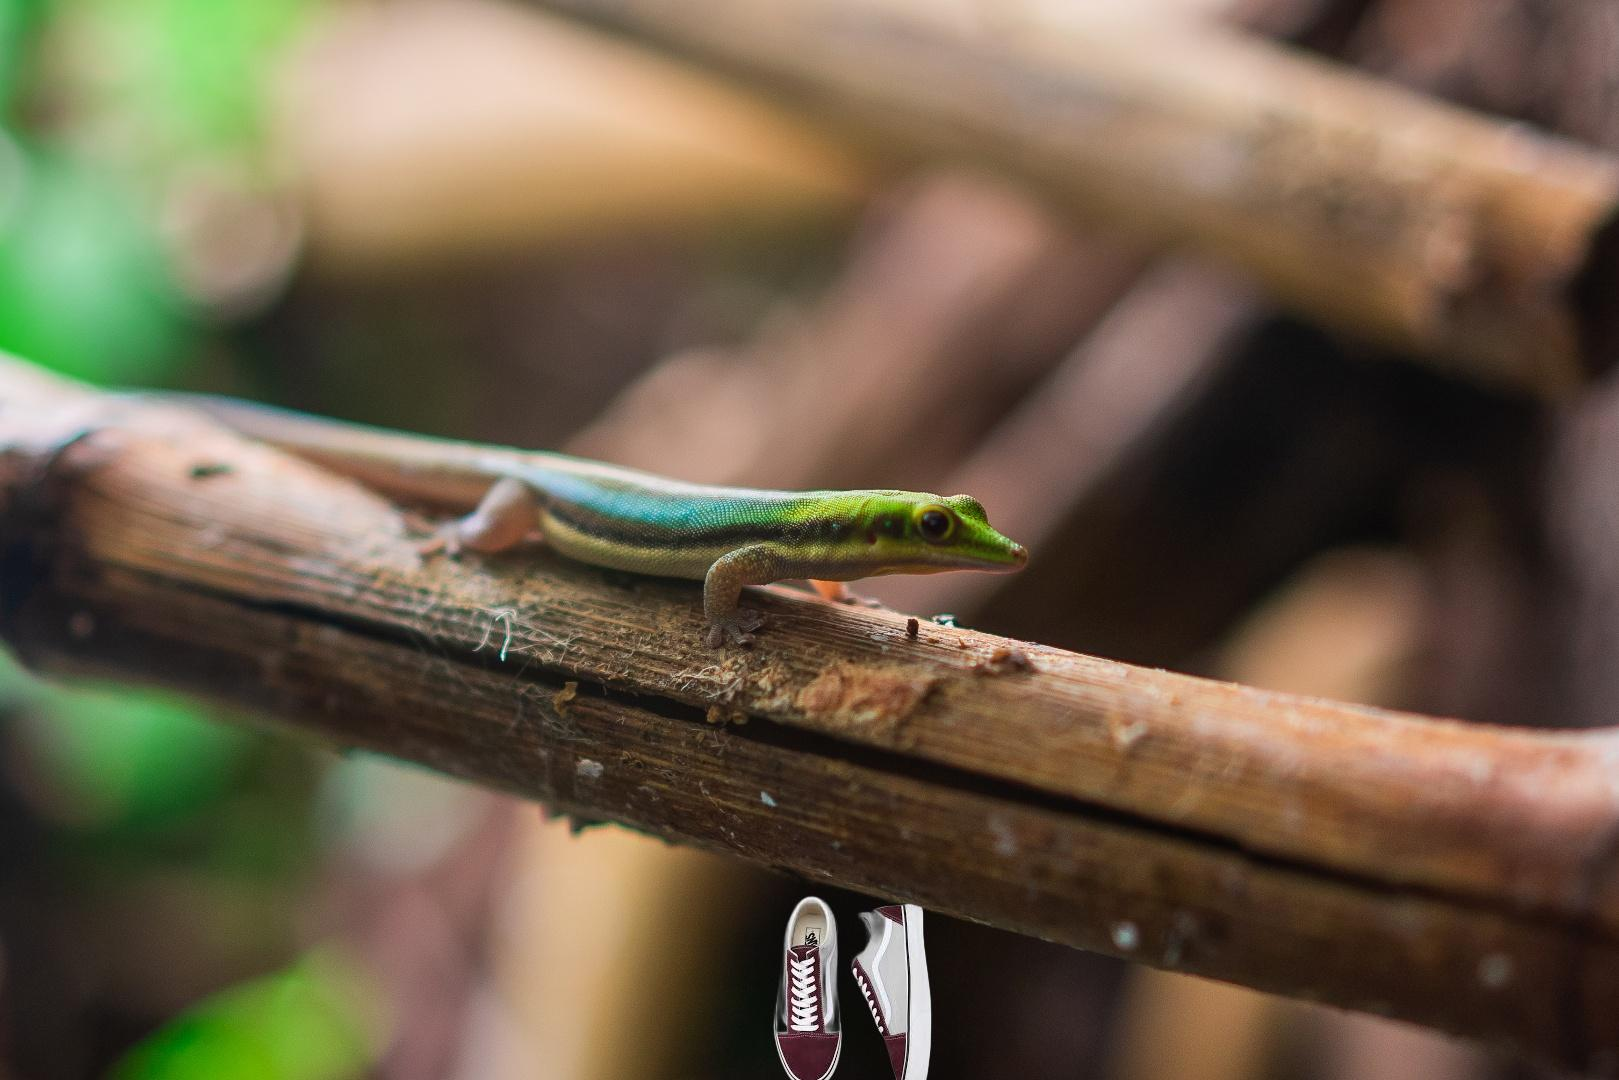shoes: (770, 891, 934, 1080)
